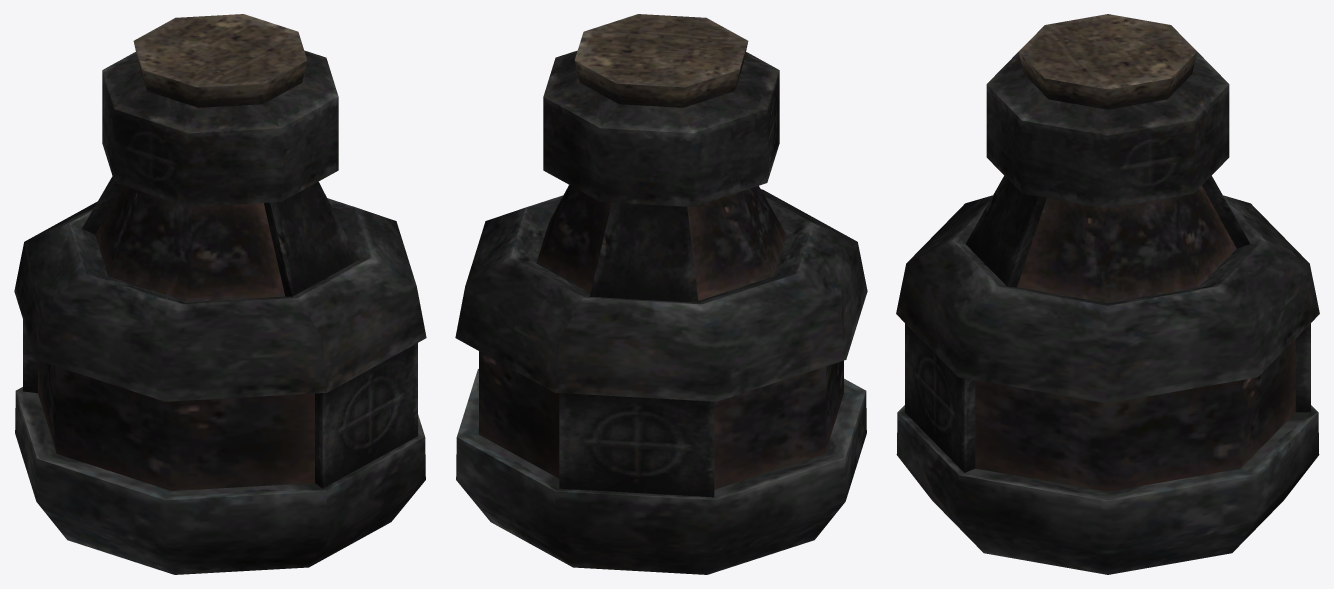
File: potion_oil.dae
3 renders of one model, left to right at view 1: azimuth 30°, elevation 25°; view 2: azimuth 150°, elevation 25°; view 3: azimuth 270°, elevation 25°, orthographic.
Visible parts, largest first — view 1: pCylinder1; view 2: pCylinder1; view 3: pCylinder1.
Boxes of the visible parts, bbox=[...] form: pCylinder1: bbox=[14, 14, 426, 574]; pCylinder1: bbox=[455, 14, 867, 574]; pCylinder1: bbox=[896, 14, 1319, 574].
Bounding box in the file's own units: 0.2356 × 0.2753 × 0.2356.
